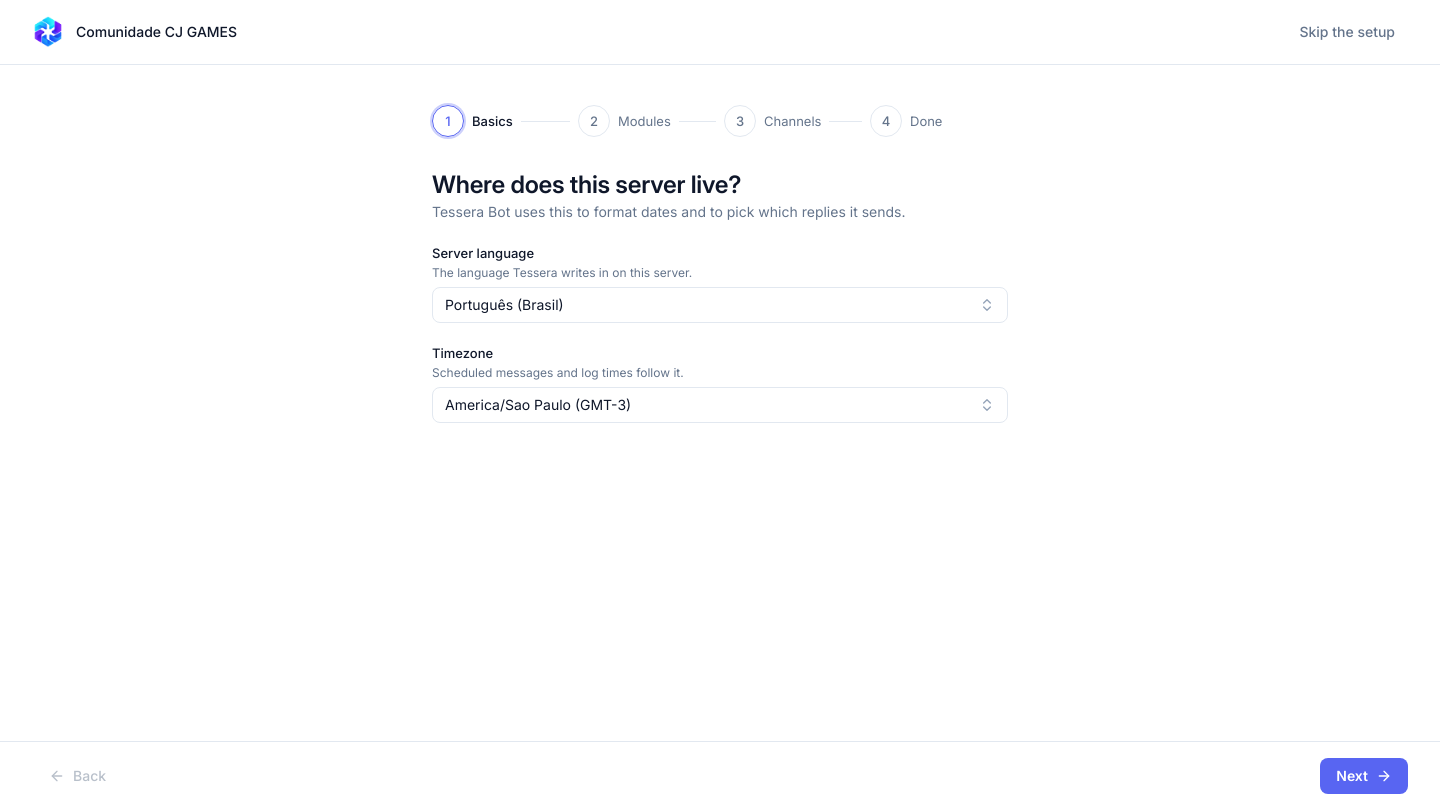
SetupWizard › offers only the locales the API accepts, so the first step cannot write a value that fails
The width and height of the screenshot is (1440, 810).
Click the dropdown named "Server language" at (504, 304), box [432, 287, 1008, 323]
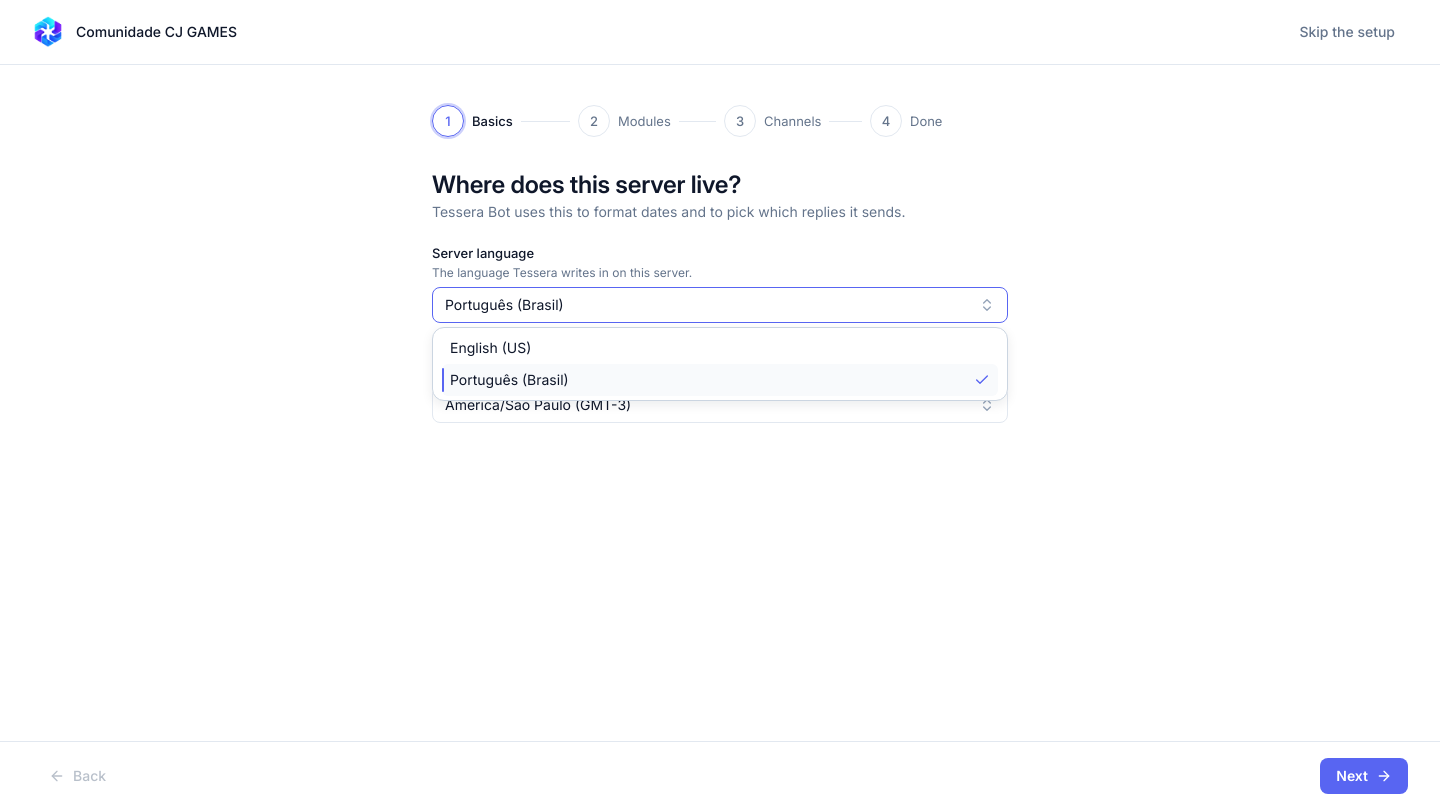
expect the options read "English (US)", "Português (Brasil)", in this order: met, box [450, 339, 531, 356]; [442, 364, 998, 396]
